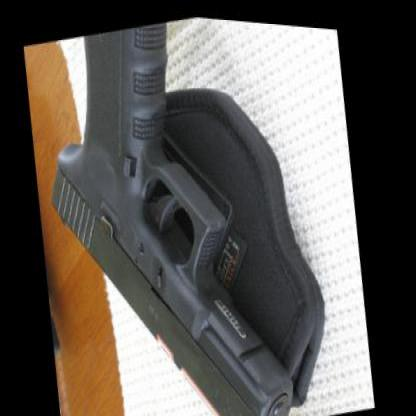pistol: (21, 1, 314, 415)
